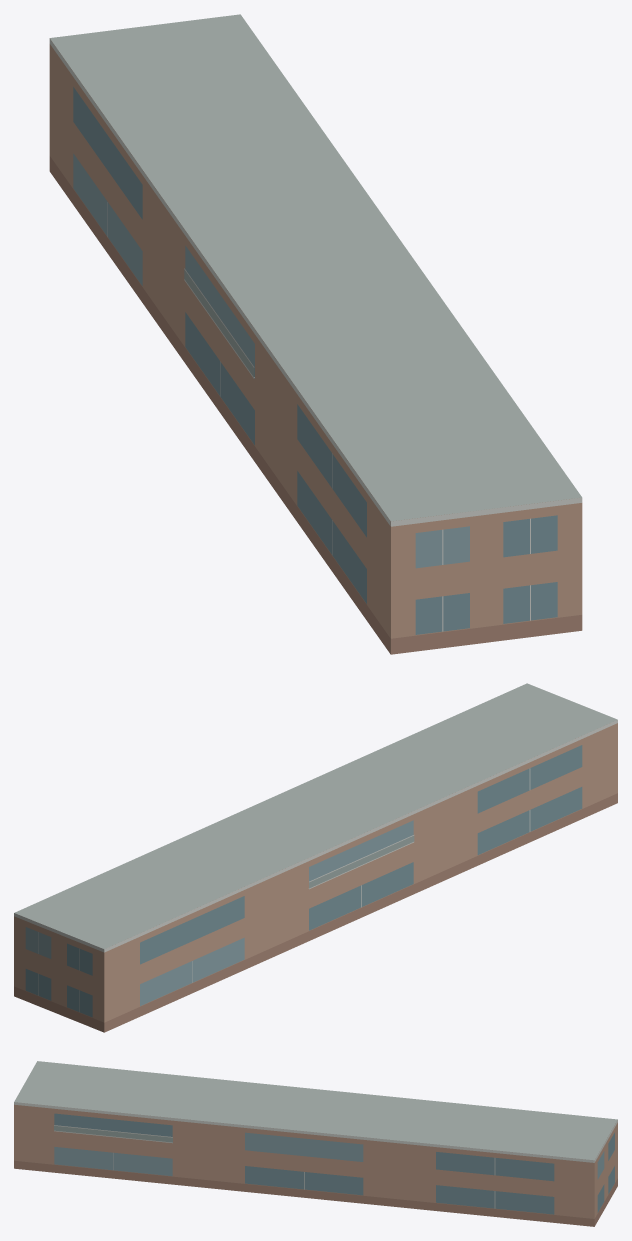
Rendered from survey-upis-32528103.glb.
3 renders of one model, top to bottom at view 1: azimuth 30°, elevation 25°; view 2: azimuth 150°, elevation 25°; view 3: azimuth 270°, elevation 25°, orthographic. The views are drawn at different scales.
Visible parts, largest first — view 1: survey-upis-32528103.tmp; view 2: survey-upis-32528103.tmp; view 3: survey-upis-32528103.tmp.
Boxes of the visible parts, x1,y1,x2,y2 form: survey-upis-32528103.tmp: [49, 14, 582, 654]; survey-upis-32528103.tmp: [14, 683, 617, 1032]; survey-upis-32528103.tmp: [14, 1061, 617, 1226].
Size of the model in its own units: 19.52 by 6.1 by 50.15.
